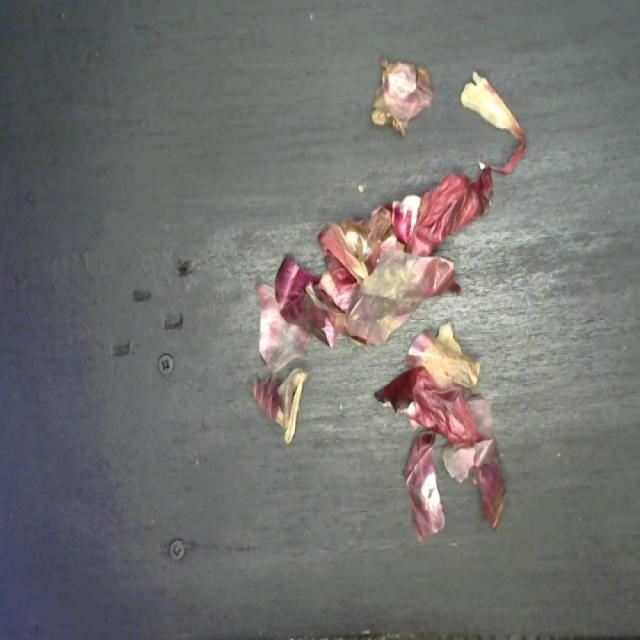biodegradable: (246, 54, 528, 552)
